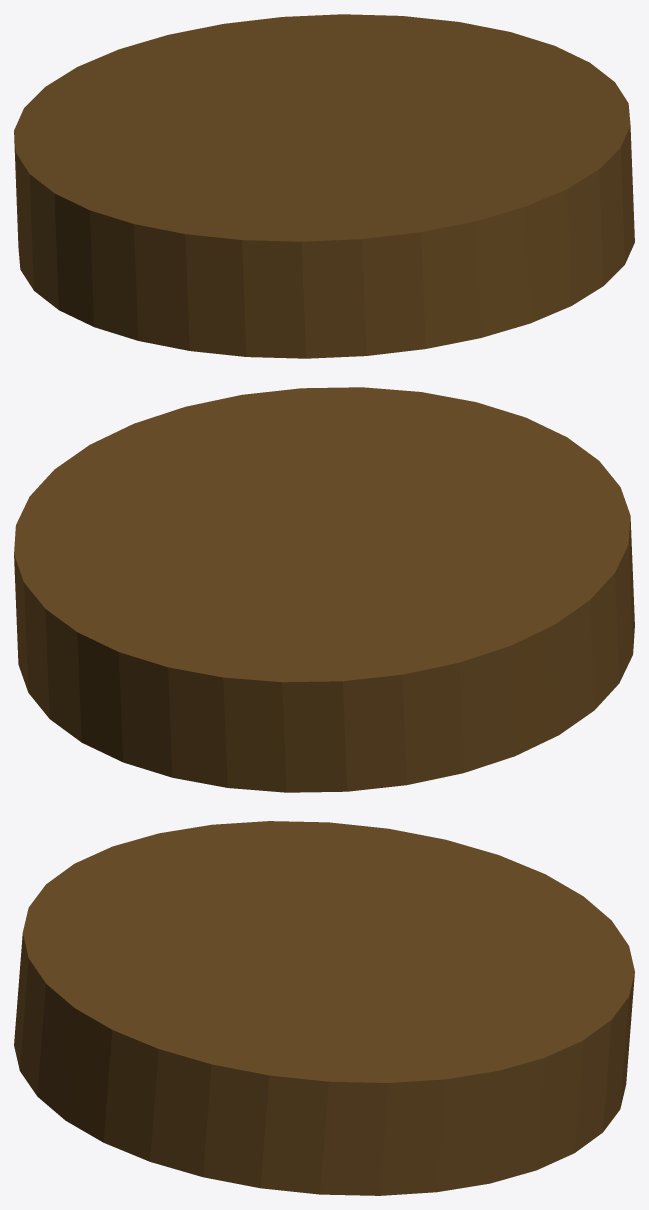
File: right_shoulder_y_link_visual_3.obj
3 renders of one model, top to bottom at view 1: azimuth 30°, elevation 25°; view 2: azimuth 150°, elevation 25°; view 3: azimuth 270°, elevation 25°, orthographic.
Parts seen in each view (by area): view 1: i01.rightArm.omoplate.full.004_visual.001; view 2: i01.rightArm.omoplate.full.004_visual.001; view 3: i01.rightArm.omoplate.full.004_visual.001.
Part boxes in pixels (left/top/right/bottom): i01.rightArm.omoplate.full.004_visual.001: left=14, top=14, right=634, bottom=358; i01.rightArm.omoplate.full.004_visual.001: left=14, top=387, right=634, bottom=792; i01.rightArm.omoplate.full.004_visual.001: left=14, top=821, right=634, bottom=1195.
Bounding box in the file's own units: 0.1667 × 0.0456 × 0.1687.
